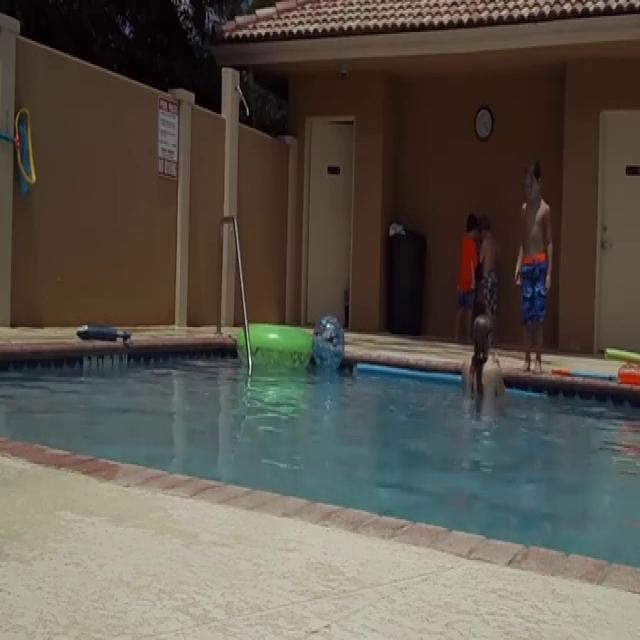adult: (461, 310, 502, 435)
child: (512, 161, 558, 375), (478, 204, 502, 351), (456, 200, 476, 346)
